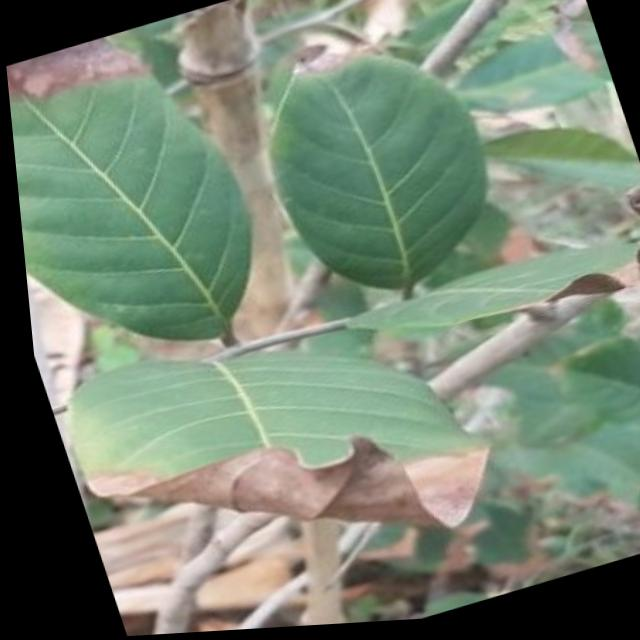Leaf Blight: (56, 308, 538, 625), (2, 18, 209, 206)
